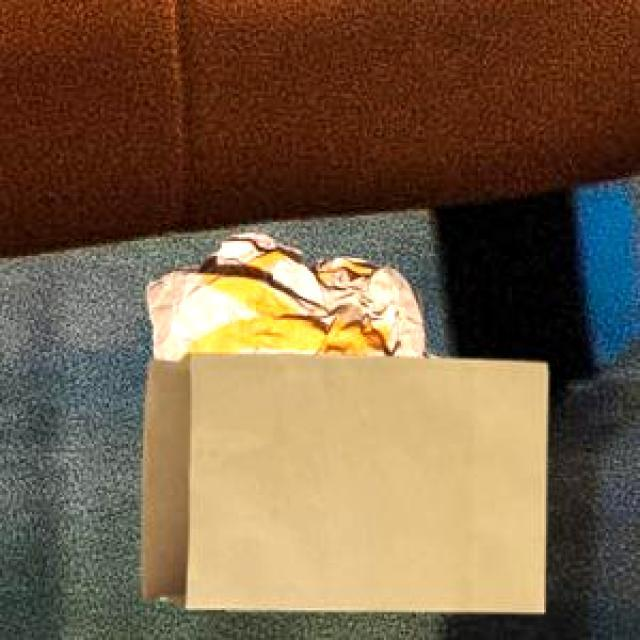Paper_Bag: (140, 351, 546, 609), (144, 230, 434, 360)
